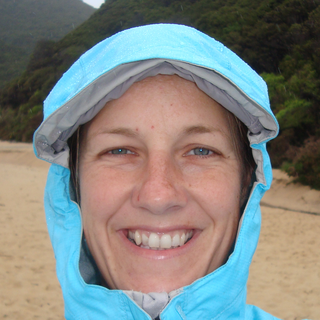eye: (173, 141, 227, 166), (94, 141, 146, 164)
